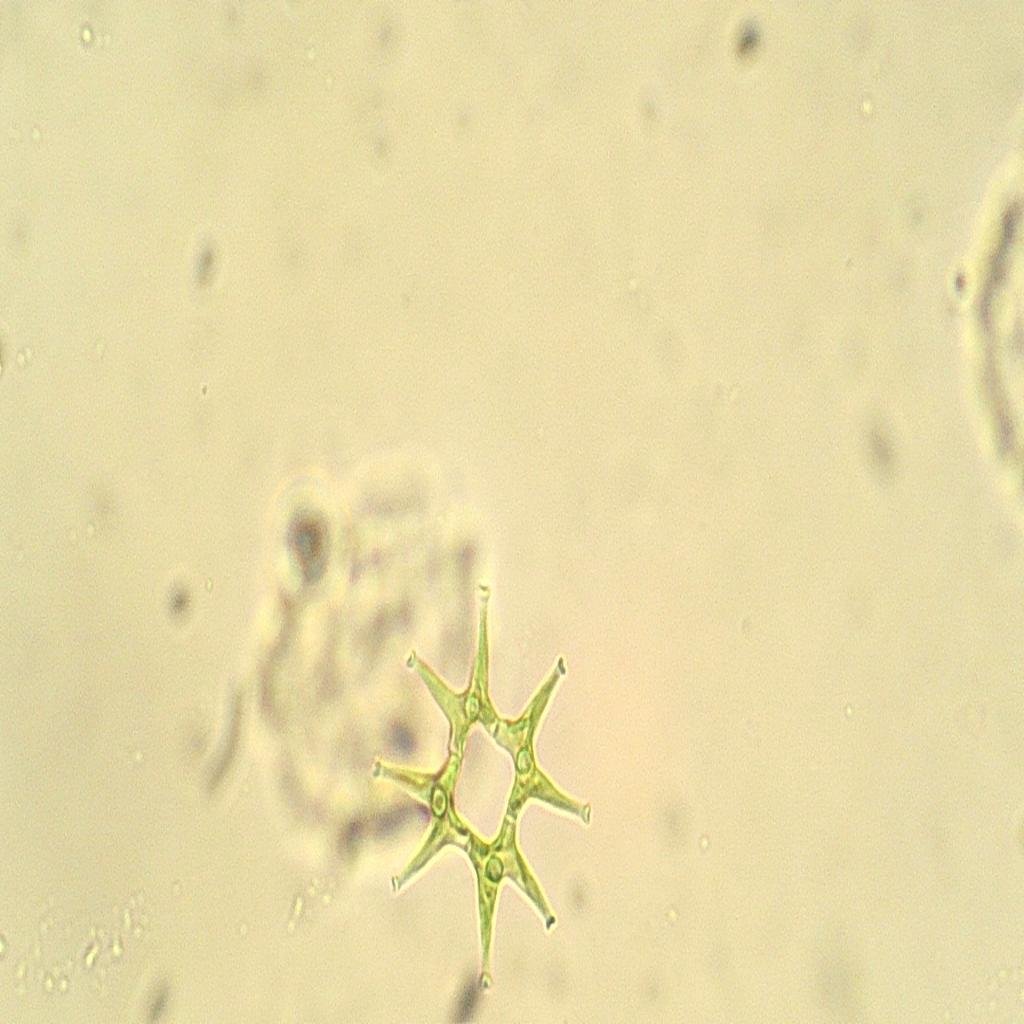Pediastrum_75O: (366, 554, 602, 1003)
